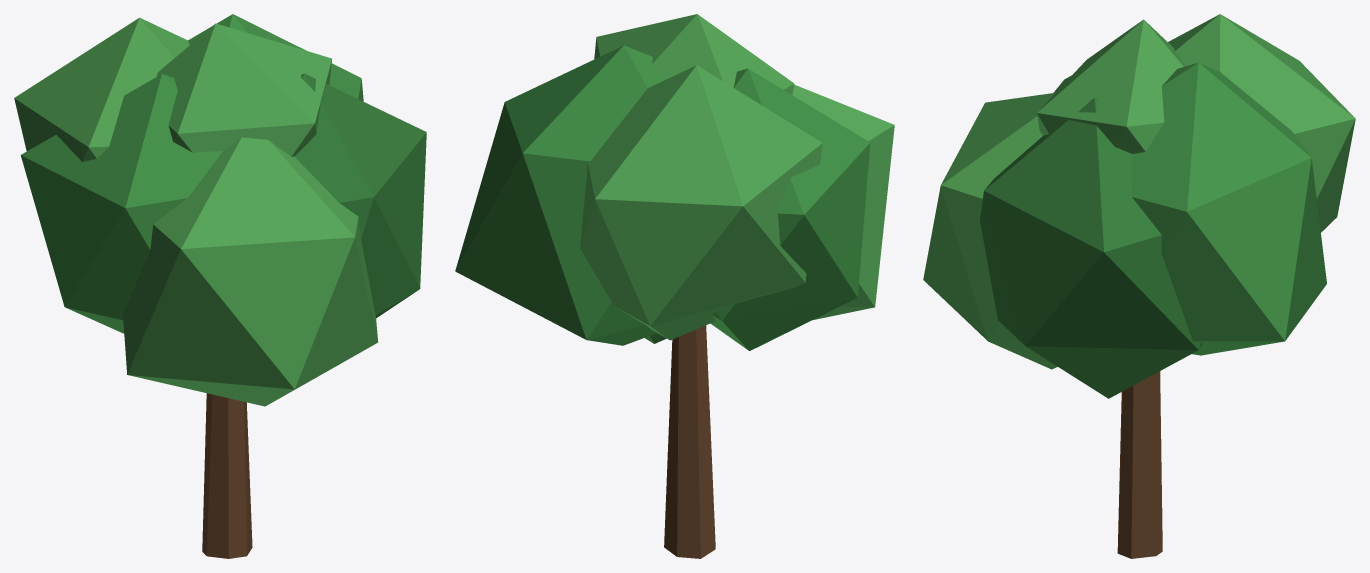
File: tree.fbx
The picture shows the model from 3 angles, left to right: view 1: azimuth 30°, elevation 25°; view 2: azimuth 150°, elevation 25°; view 3: azimuth 270°, elevation 25°; orthographic projection. The views are drawn at different scales.
Parts seen in each view (by area): view 1: tree; view 2: tree; view 3: tree.
Part boxes in pixels (x1=…): tree: x1=14, y1=14, x2=426, y2=558; tree: x1=455, y1=14, x2=894, y2=558; tree: x1=923, y1=14, x2=1355, y2=558.
Bounding box in the file's own units: 11.36 × 16.65 × 12.37.
